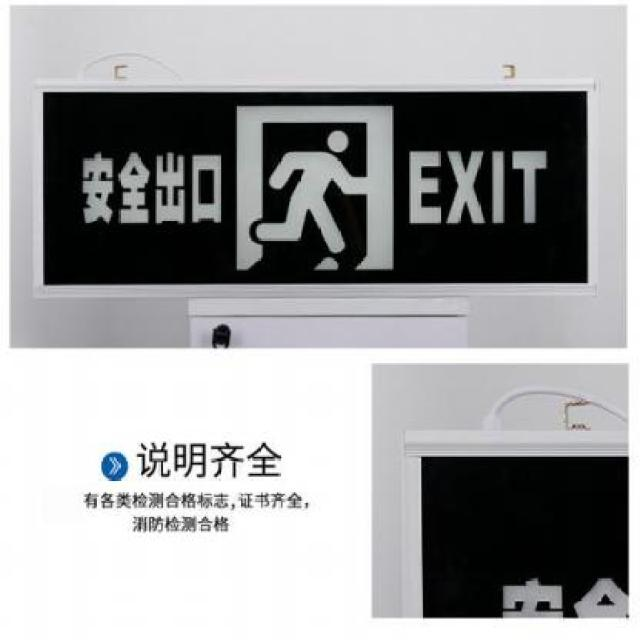exit_sign: (34, 62, 595, 298)
